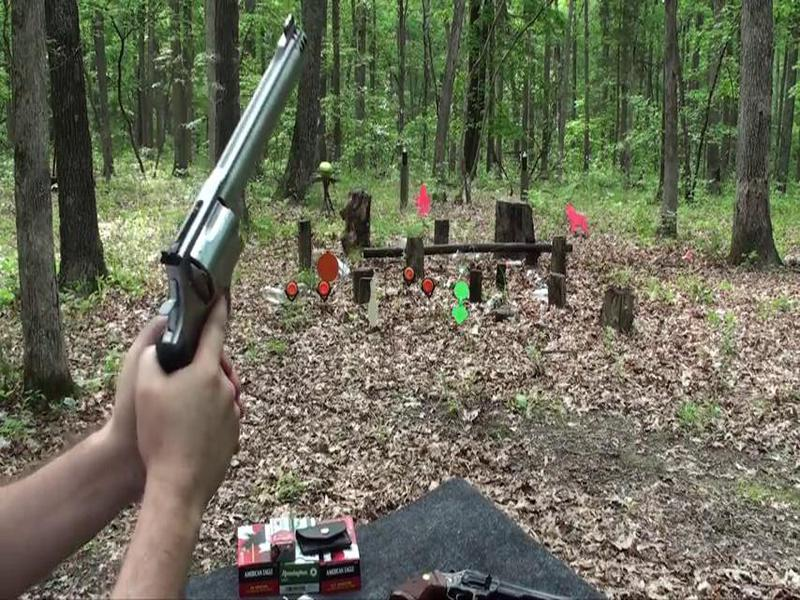Revolver: (133, 17, 321, 402)
